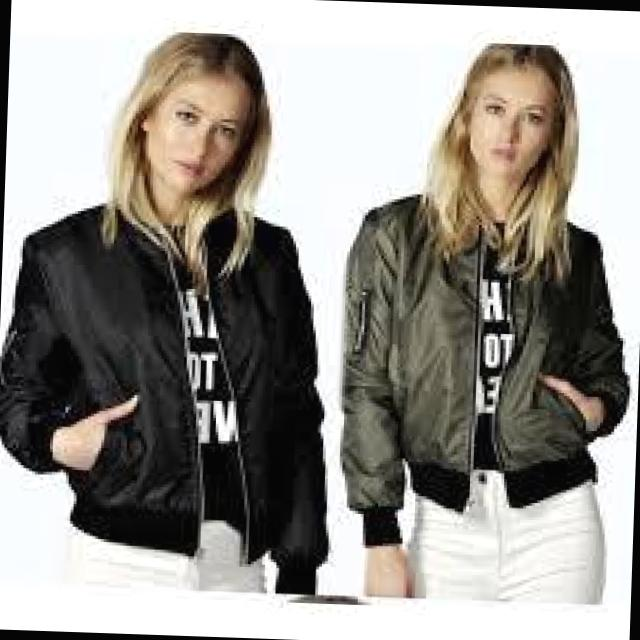jacket: (0, 192, 346, 579), (315, 173, 638, 562)
